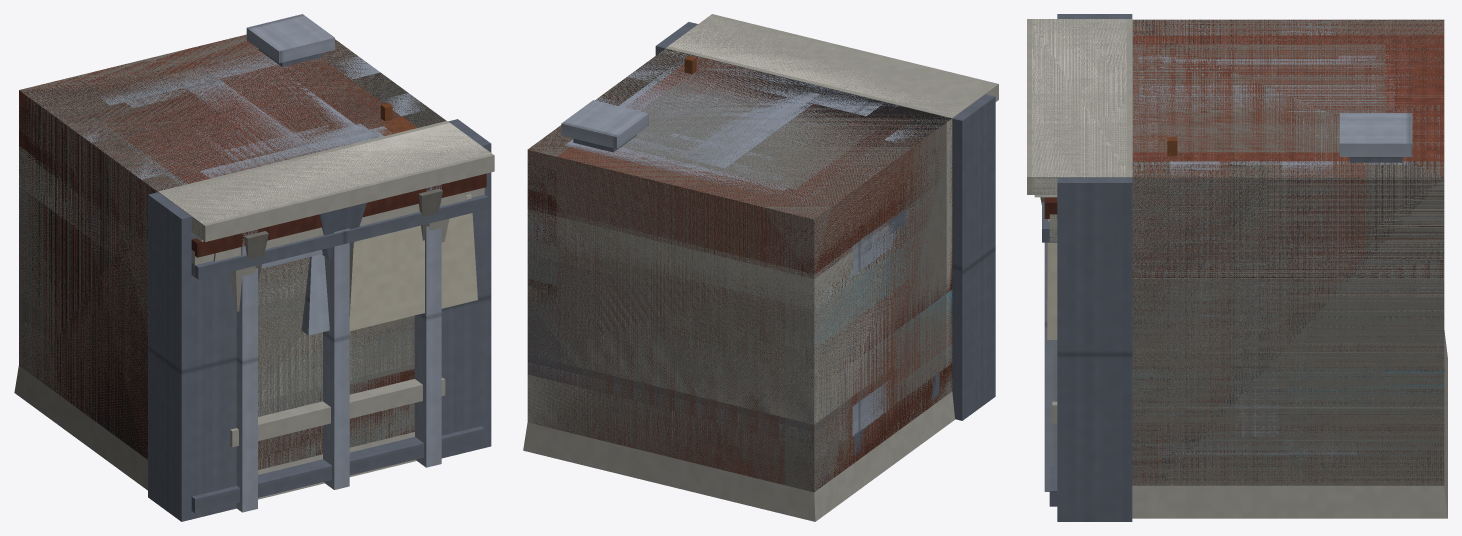
Rendered from demigol_kit.fbx.
The picture shows the model from 3 angles, left to right: view 1: azimuth 30°, elevation 25°; view 2: azimuth 150°, elevation 25°; view 3: azimuth 270°, elevation 25°; orthographic projection. The views are drawn at different scales.
Parts seen in each view (by area): view 1: kit_concrete_interior_a, kit_glass_facade_a, kit_brick_facade_a, kit_steel_endcap_a, kit_concrete_roof_b, kit_steel_facade_b, kit_infill_damaged_a, kit_brick_endcap_a, kit_brick_roof_b, kit_steel_corner_a, kit_brick_corner_a, kit_concrete_damaged_b (+19 smaller); view 2: kit_concrete_interior_a, kit_concrete_beam_a, kit_concrete_roof_a, kit_concrete_base_a, kit_brick_endcap_a, kit_concrete_damaged_b, kit_brick_lobby_a, kit_brick_corner_a, kit_steel_endcap_a, kit_concrete_roof_b, kit_steel_column_e, kit_brick_facade_a (+15 smaller); view 3: kit_concrete_interior_a, kit_concrete_roof_a, kit_brick_corner_a, kit_concrete_base_a, kit_steel_corner_a, kit_brick_facade_a, kit_concrete_roof_b, kit_brick_roof_b, kit_concrete_soffit_a, kit_glass_facade_a, kit_brick_endcap_a, kit_concrete_damaged_b (+16 smaller).
Part boxes in pixels (x1=…): kit_concrete_interior_a: x1=19, y1=35, x2=441, y2=469; kit_glass_facade_a: x1=19, y1=36, x2=484, y2=513; kit_brick_facade_a: x1=19, y1=34, x2=484, y2=469; kit_steel_endcap_a: x1=44, y1=124, x2=406, y2=521; kit_concrete_roof_b: x1=158, y1=121, x2=494, y2=281; kit_steel_facade_b: x1=236, y1=184, x2=441, y2=512; kit_infill_damaged_a: x1=20, y1=40, x2=477, y2=462; kit_brick_endcap_a: x1=19, y1=39, x2=420, y2=435; kit_brick_roof_b: x1=163, y1=123, x2=491, y2=257; kit_steel_corner_a: x1=259, y1=56, x2=491, y2=458; kit_brick_corner_a: x1=19, y1=35, x2=416, y2=452; kit_concrete_damaged_b: x1=20, y1=37, x2=390, y2=450; kit_concrete_interior_a: x1=527, y1=49, x2=949, y2=492; kit_concrete_beam_a: x1=527, y1=205, x2=952, y2=424; kit_concrete_roof_a: x1=527, y1=207, x2=912, y2=491; kit_concrete_base_a: x1=523, y1=64, x2=954, y2=521; kit_brick_endcap_a: x1=528, y1=50, x2=951, y2=484; kit_concrete_damaged_b: x1=529, y1=49, x2=952, y2=488; kit_brick_lobby_a: x1=527, y1=128, x2=952, y2=489; kit_brick_corner_a: x1=527, y1=56, x2=926, y2=491; kit_steel_endcap_a: x1=806, y1=94, x2=995, y2=420; kit_concrete_roof_b: x1=665, y1=14, x2=998, y2=133; kit_steel_column_e: x1=565, y1=55, x2=889, y2=203; kit_brick_facade_a: x1=528, y1=51, x2=952, y2=488; kit_concrete_interior_a: x1=1132, y1=19, x2=1444, y2=485; kit_concrete_roof_a: x1=1132, y1=247, x2=1444, y2=485; kit_brick_corner_a: x1=1132, y1=19, x2=1444, y2=438; kit_concrete_base_a: x1=1132, y1=44, x2=1447, y2=518; kit_steel_corner_a: x1=1057, y1=161, x2=1443, y2=521; kit_brick_facade_a: x1=1049, y1=19, x2=1444, y2=485; kit_concrete_roof_b: x1=1027, y1=19, x2=1143, y2=247; kit_brick_roof_b: x1=1032, y1=19, x2=1126, y2=218; kit_concrete_soffit_a: x1=1132, y1=177, x2=1444, y2=484; kit_glass_facade_a: x1=1049, y1=19, x2=1444, y2=506; kit_brick_endcap_a: x1=1132, y1=35, x2=1444, y2=177; kit_concrete_damaged_b: x1=1132, y1=19, x2=1443, y2=485.
Size of the model in its own units: 3.2 by 3.2 by 3.36.
1 material, 1 textured.
